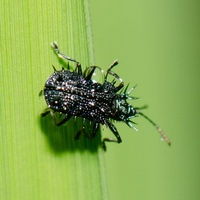insect: (41, 42, 170, 149)
